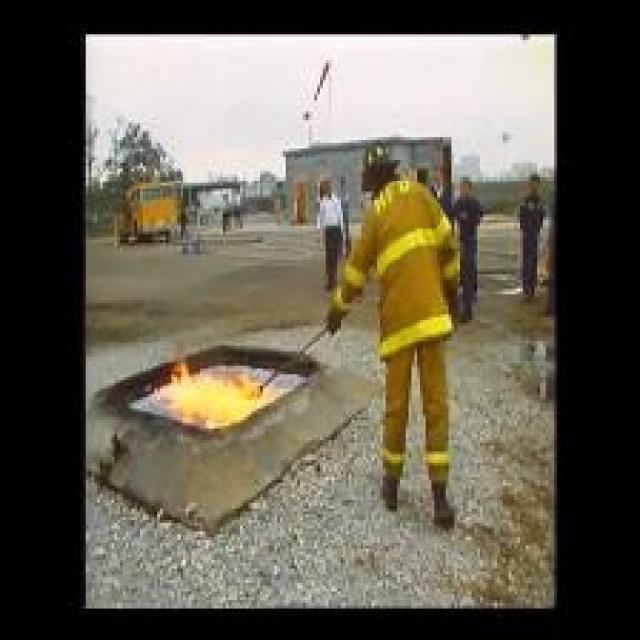Fire: (160, 356, 280, 422)
